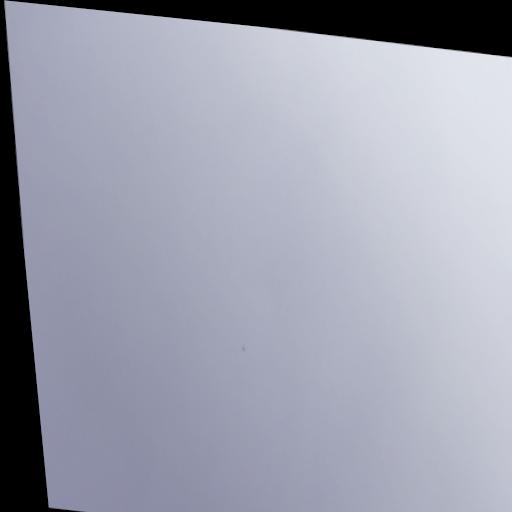drones: (239, 342, 248, 356)
